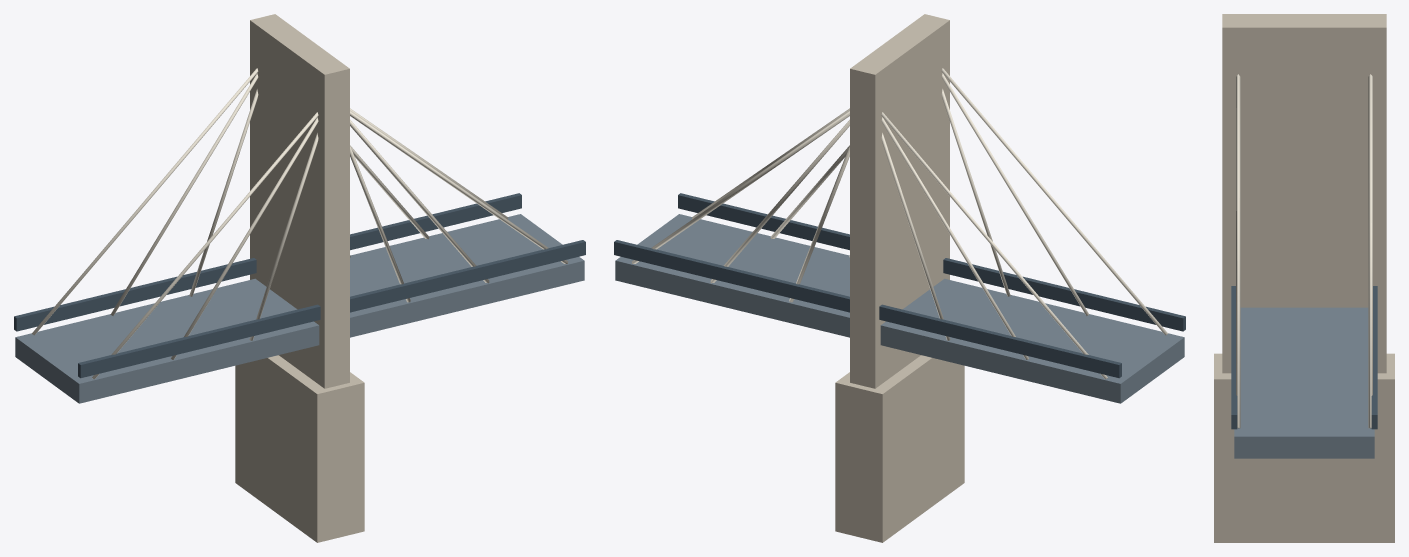
The model's file is bridge.glb.
3 renders of one model, left to right at view 1: azimuth 30°, elevation 25°; view 2: azimuth 150°, elevation 25°; view 3: azimuth 270°, elevation 25°, orthographic. The views are drawn at different scales.
Visible parts, largest first — view 1: bridge-deck, bridge-tower, bridge-pier, bridge-rail-front, bridge-rail-back, cable-5, cable-4, cable-10, cable-3, cable-2, cable-8, cable-1 (+2 smaller); view 2: bridge-deck, bridge-tower, bridge-pier, bridge-rail-back, bridge-rail-front, cable-4, cable-5, cable-11, cable-2, cable-3, cable-9, cable-0 (+2 smaller); view 3: bridge-tower, bridge-deck, bridge-pier, cable-10, cable-11, bridge-rail-back, bridge-rail-front.
Part boxes in pixels (left/top/right/bottom): bridge-deck: left=15, top=214, right=584, bottom=403; bridge-tower: left=250, top=14, right=349, bottom=388; bridge-pier: left=235, top=355, right=364, bottom=542; bridge-rail-front: left=78, top=240, right=585, bottom=378; bridge-rail-back: left=14, top=193, right=521, bottom=331; cable-5: left=32, top=68, right=258, bottom=335; cable-4: left=92, top=112, right=318, bottom=379; cable-10: left=350, top=111, right=568, bottom=263; cable-3: left=110, top=73, right=258, bottom=315; cable-2: left=171, top=117, right=318, bottom=359; cable-8: left=350, top=119, right=489, bottom=283; cable-1: left=189, top=89, right=258, bottom=296; bridge-deck: left=615, top=214, right=1184, bottom=403; bridge-tower: left=850, top=14, right=949, bottom=388; bridge-pier: left=835, top=355, right=964, bottom=542; bridge-rail-back: left=614, top=240, right=1121, bottom=378; bridge-rail-front: left=678, top=193, right=1185, bottom=331; cable-4: left=941, top=68, right=1167, bottom=335; cable-5: left=881, top=112, right=1107, bottom=379; cable-11: left=631, top=111, right=849, bottom=263; cable-2: left=941, top=73, right=1089, bottom=315; cable-3: left=881, top=117, right=1028, bottom=359; cable-9: left=710, top=119, right=849, bottom=283; cable-0: left=941, top=89, right=1010, bottom=296; bridge-tower: left=1222, top=14, right=1386, bottom=373; bridge-deck: left=1234, top=307, right=1374, bottom=458; bridge-pier: left=1214, top=353, right=1394, bottom=542; cable-10: left=1236, top=74, right=1240, bottom=428; cable-11: left=1368, top=74, right=1372, bottom=428; bridge-rail-back: left=1371, top=286, right=1377, bottom=429; bridge-rail-front: left=1231, top=286, right=1237, bottom=429.
Bounding box in the file's own units: 3.2 × 2.8 × 0.9.
